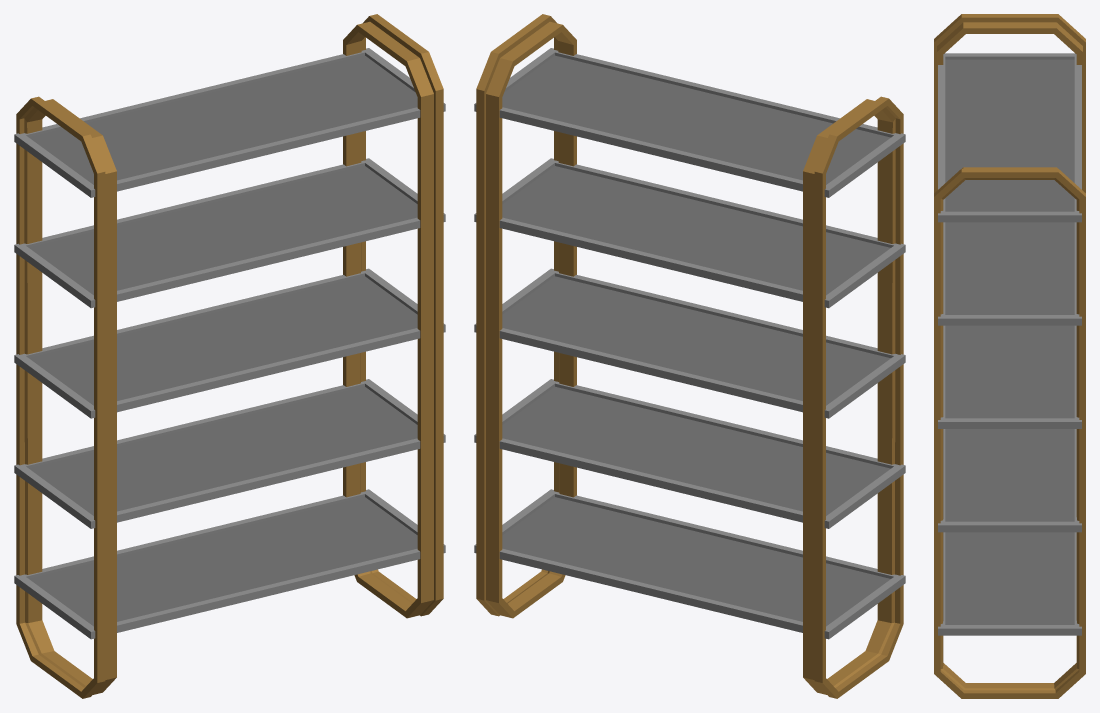
The model's file is shelf-tall.glb.
The picture shows the model from 3 angles, left to right: view 1: azimuth 30°, elevation 25°; view 2: azimuth 150°, elevation 25°; view 3: azimuth 270°, elevation 25°; orthographic projection. The views are drawn at different scales.
Visible parts, largest first — view 1: Props_Shelf_Tall; view 2: Props_Shelf_Tall; view 3: Props_Shelf_Tall.
Boxes of the visible parts, x1,y1,x2,y2 form: Props_Shelf_Tall: (14,14,445,698); Props_Shelf_Tall: (474,14,905,698); Props_Shelf_Tall: (934,14,1085,698).
Size of the model in its own units: 2.05 by 3.11 by 0.8108.
